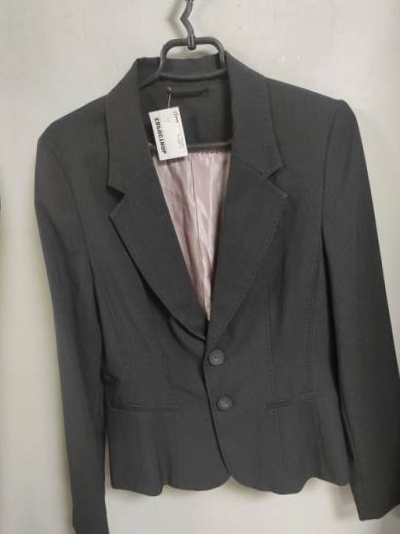Blazer: (15, 52, 400, 534), (0, 68, 28, 534)
